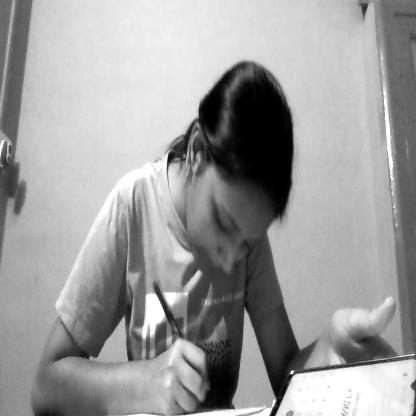Distracted: (188, 68, 286, 277)
